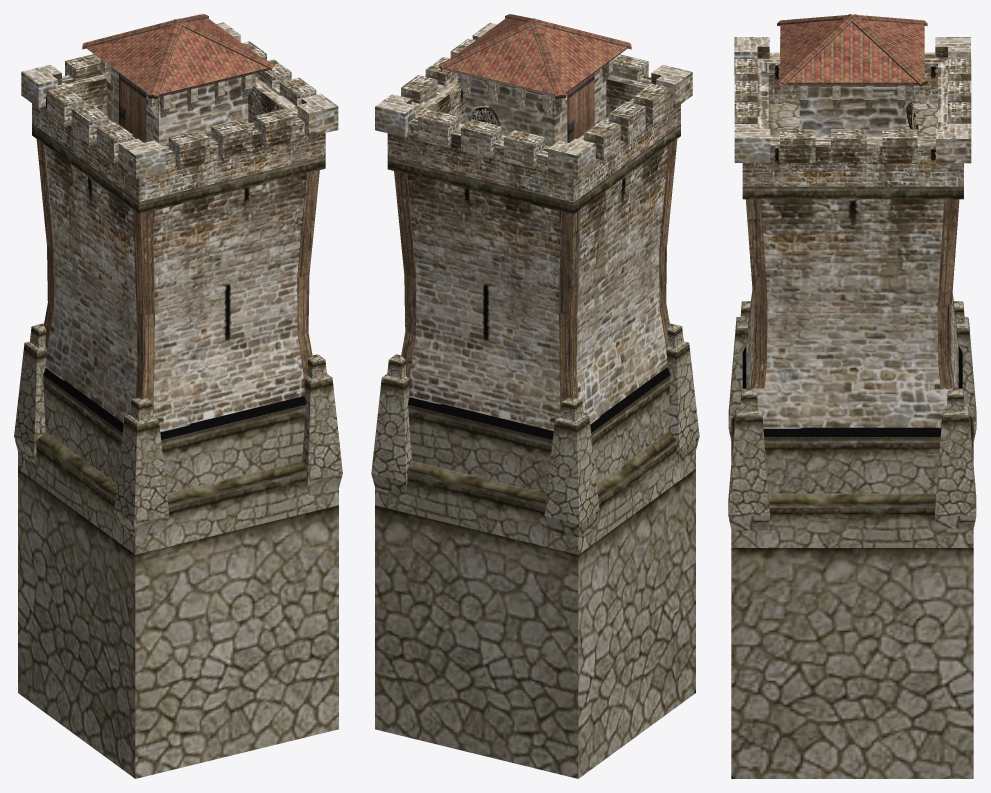
Rendered from rome_wall_tower.glb.
3 renders of one model, left to right at view 1: azimuth 30°, elevation 25°; view 2: azimuth 150°, elevation 25°; view 3: azimuth 270°, elevation 25°, orthographic. The views are drawn at different scales.
Parts seen in each view (by area): view 1: rome_wall_tower_part0; view 2: rome_wall_tower_part0; view 3: rome_wall_tower_part0.
Part boxes in pixels (x1=…): rome_wall_tower_part0: x1=14, y1=14, x2=342, y2=778; rome_wall_tower_part0: x1=371, y1=14, x2=699, y2=778; rome_wall_tower_part0: x1=728, y1=14, x2=976, y2=778.
Size of the model in its own units: 2.2 by 6.98 by 2.2.
2 materials, 2 textured.
